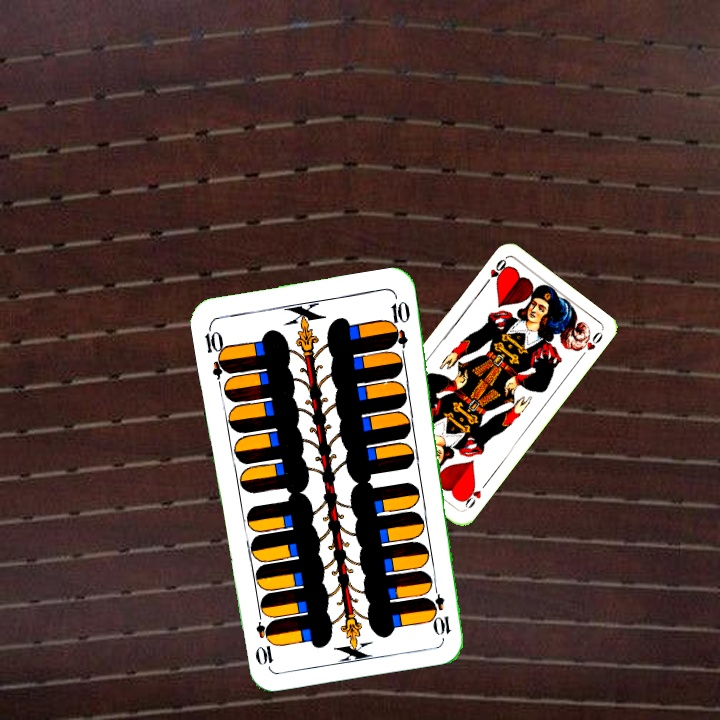E10: (201, 321, 232, 380), (427, 579, 453, 638)
HO: (458, 478, 490, 513), (480, 255, 509, 289)
